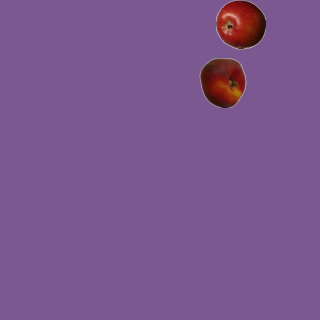Apple Braeburn: (215, 0, 265, 49)
Nectarine Flat: (197, 57, 247, 107)
